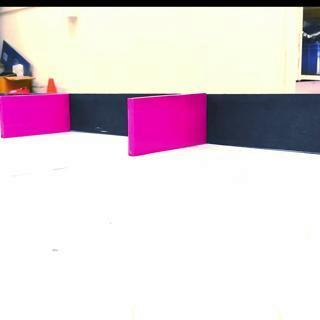xparking: (132, 96, 207, 154), (1, 96, 68, 132)
